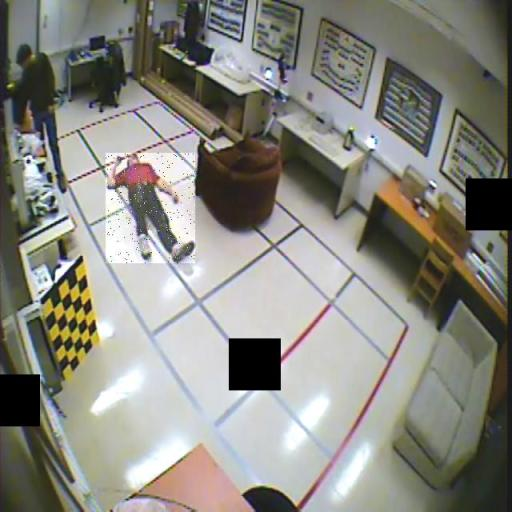Fall: (106, 153, 195, 263)
